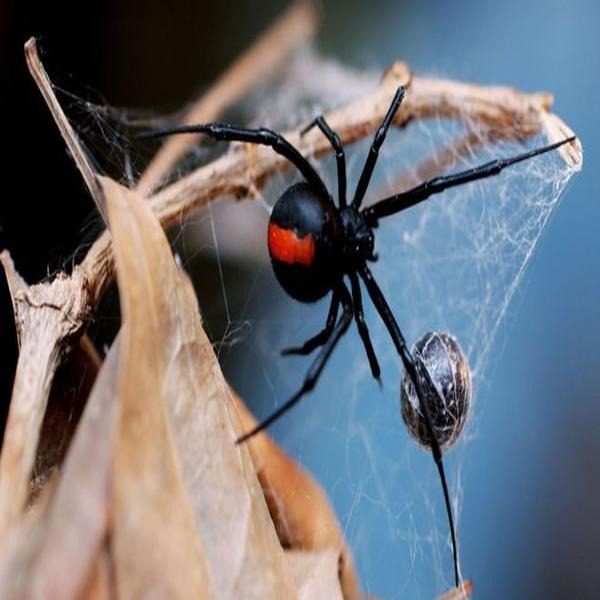Redback_Spider: (136, 84, 577, 589)
